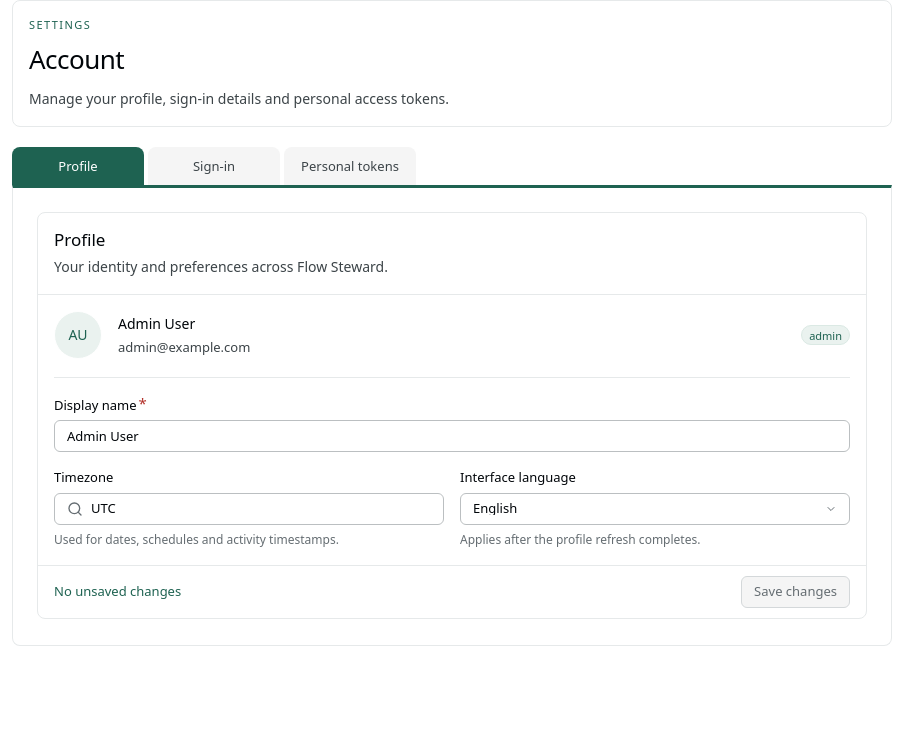
SettingsAccountPage › keeps the saved language selected when saving it switches the interface language
Check: the field showing "Admin User" is shown, box [54, 420, 850, 452]
Click the dropdown named "Interface language": click(495, 508) [460, 493, 850, 525]
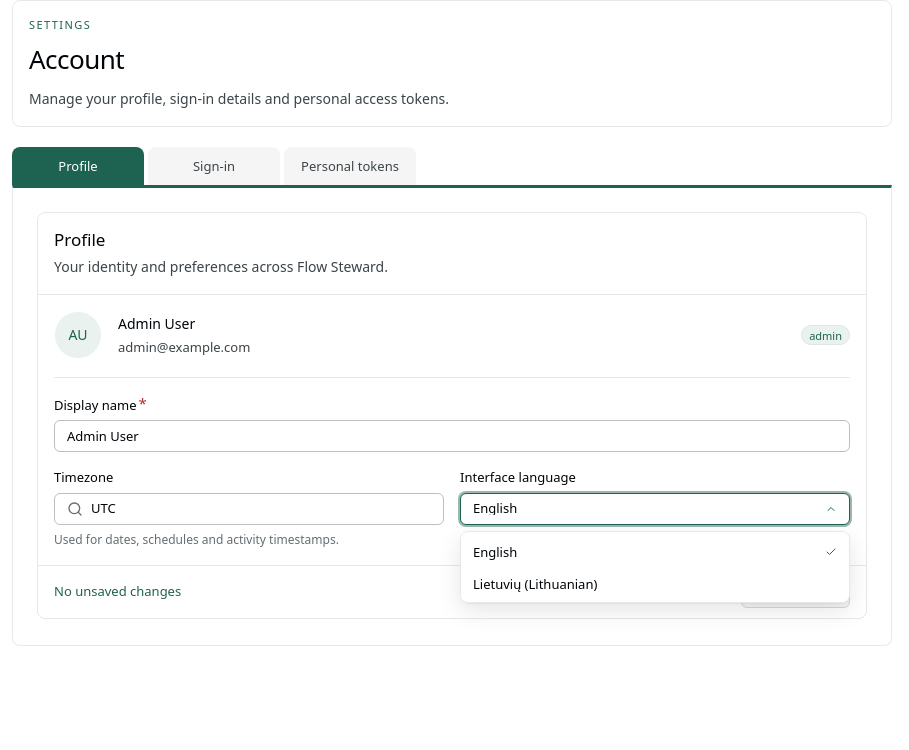
Click the option "Lietuvių (Lithuanian)": click(535, 584) [465, 568, 845, 600]
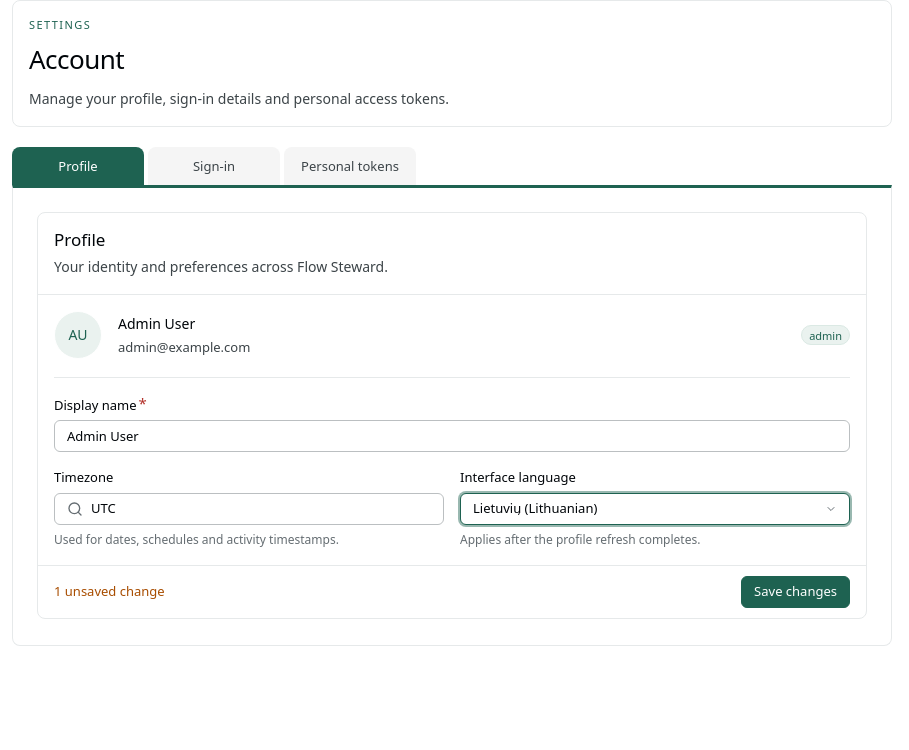
Click the button "Save changes": click(796, 592) [741, 576, 850, 608]
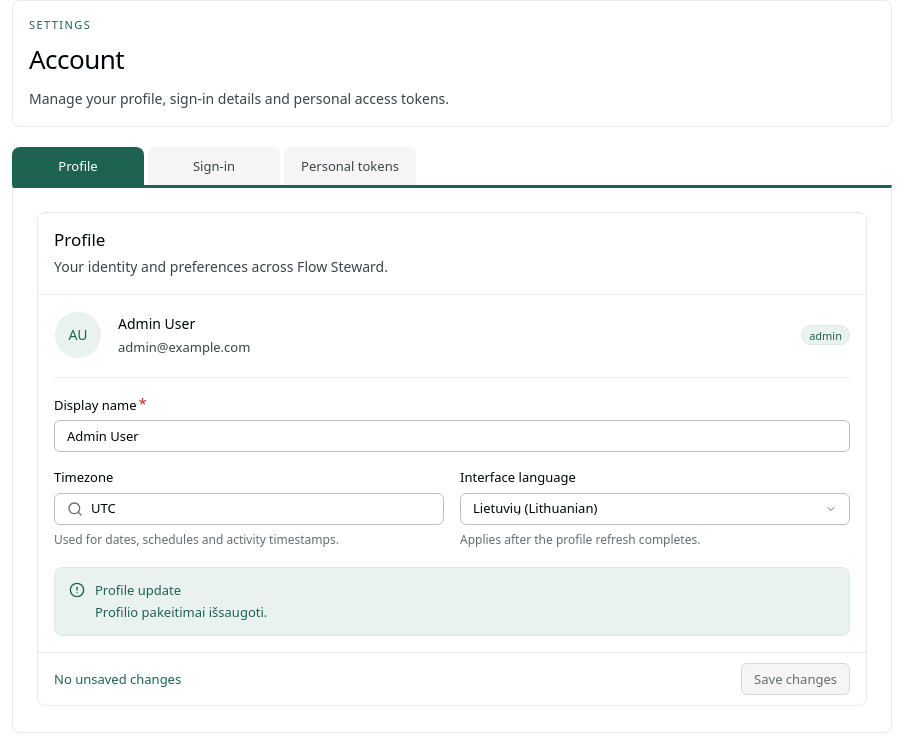
Check: the dropdown named "Interface language" shows "Lietuvių", box [460, 493, 850, 525]
Check: the text "Profilio pakeitimai išsaugoti." is shown, box [95, 604, 267, 622]
Check: the text "No unsaved changes" is shown, box [54, 670, 181, 688]
